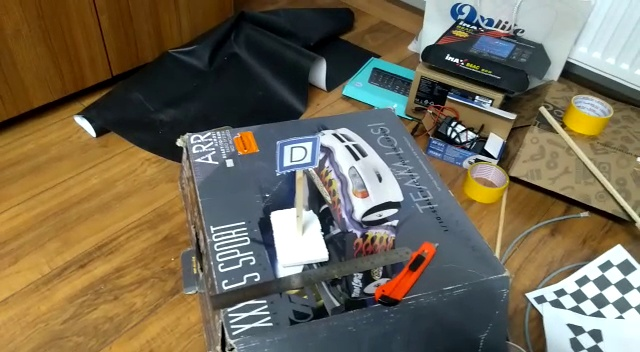durak: (272, 135, 322, 175)
